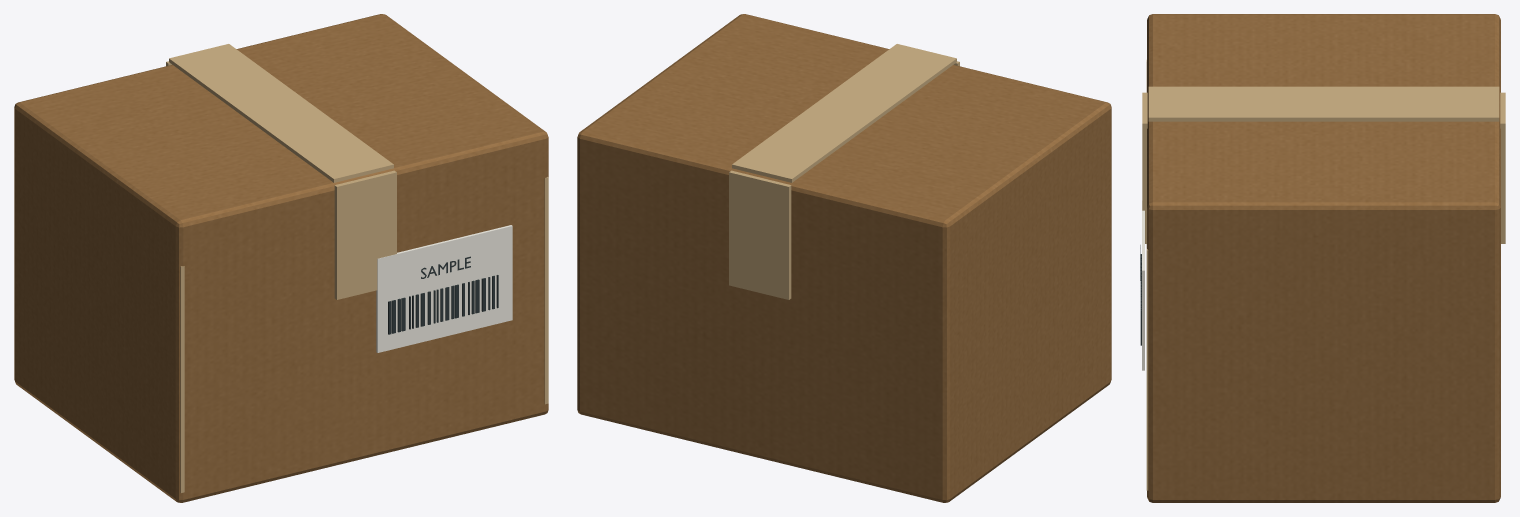
The model's file is parcel.glb.
The picture shows the model from 3 angles, left to right: view 1: azimuth 30°, elevation 25°; view 2: azimuth 150°, elevation 25°; view 3: azimuth 270°, elevation 25°; orthographic projection. The views are drawn at different scales.
Parts seen in each view (by area): view 1: Kraft Paper PBR, Packing Tape, Label Stock, Printed Ink; view 2: Kraft Paper PBR, Packing Tape; view 3: Kraft Paper PBR, Packing Tape, Label Stock.
Part boxes in pixels (x1=…): Kraft Paper PBR: x1=14, y1=14, x2=548, y2=502; Packing Tape: x1=166, y1=44, x2=548, y2=492; Label Stock: x1=376, y1=225, x2=512, y2=352; Printed Ink: x1=388, y1=256, x2=498, y2=334; Kraft Paper PBR: x1=577, y1=14, x2=1111, y2=502; Packing Tape: x1=729, y1=44, x2=959, y2=299; Kraft Paper PBR: x1=1147, y1=14, x2=1500, y2=502; Packing Tape: x1=1142, y1=60, x2=1505, y2=490; Label Stock: x1=1142, y1=201, x2=1144, y2=370.
Bounding box in the file's own units: 0.62 × 0.459 × 0.4957.
5 materials, 1 textured.
